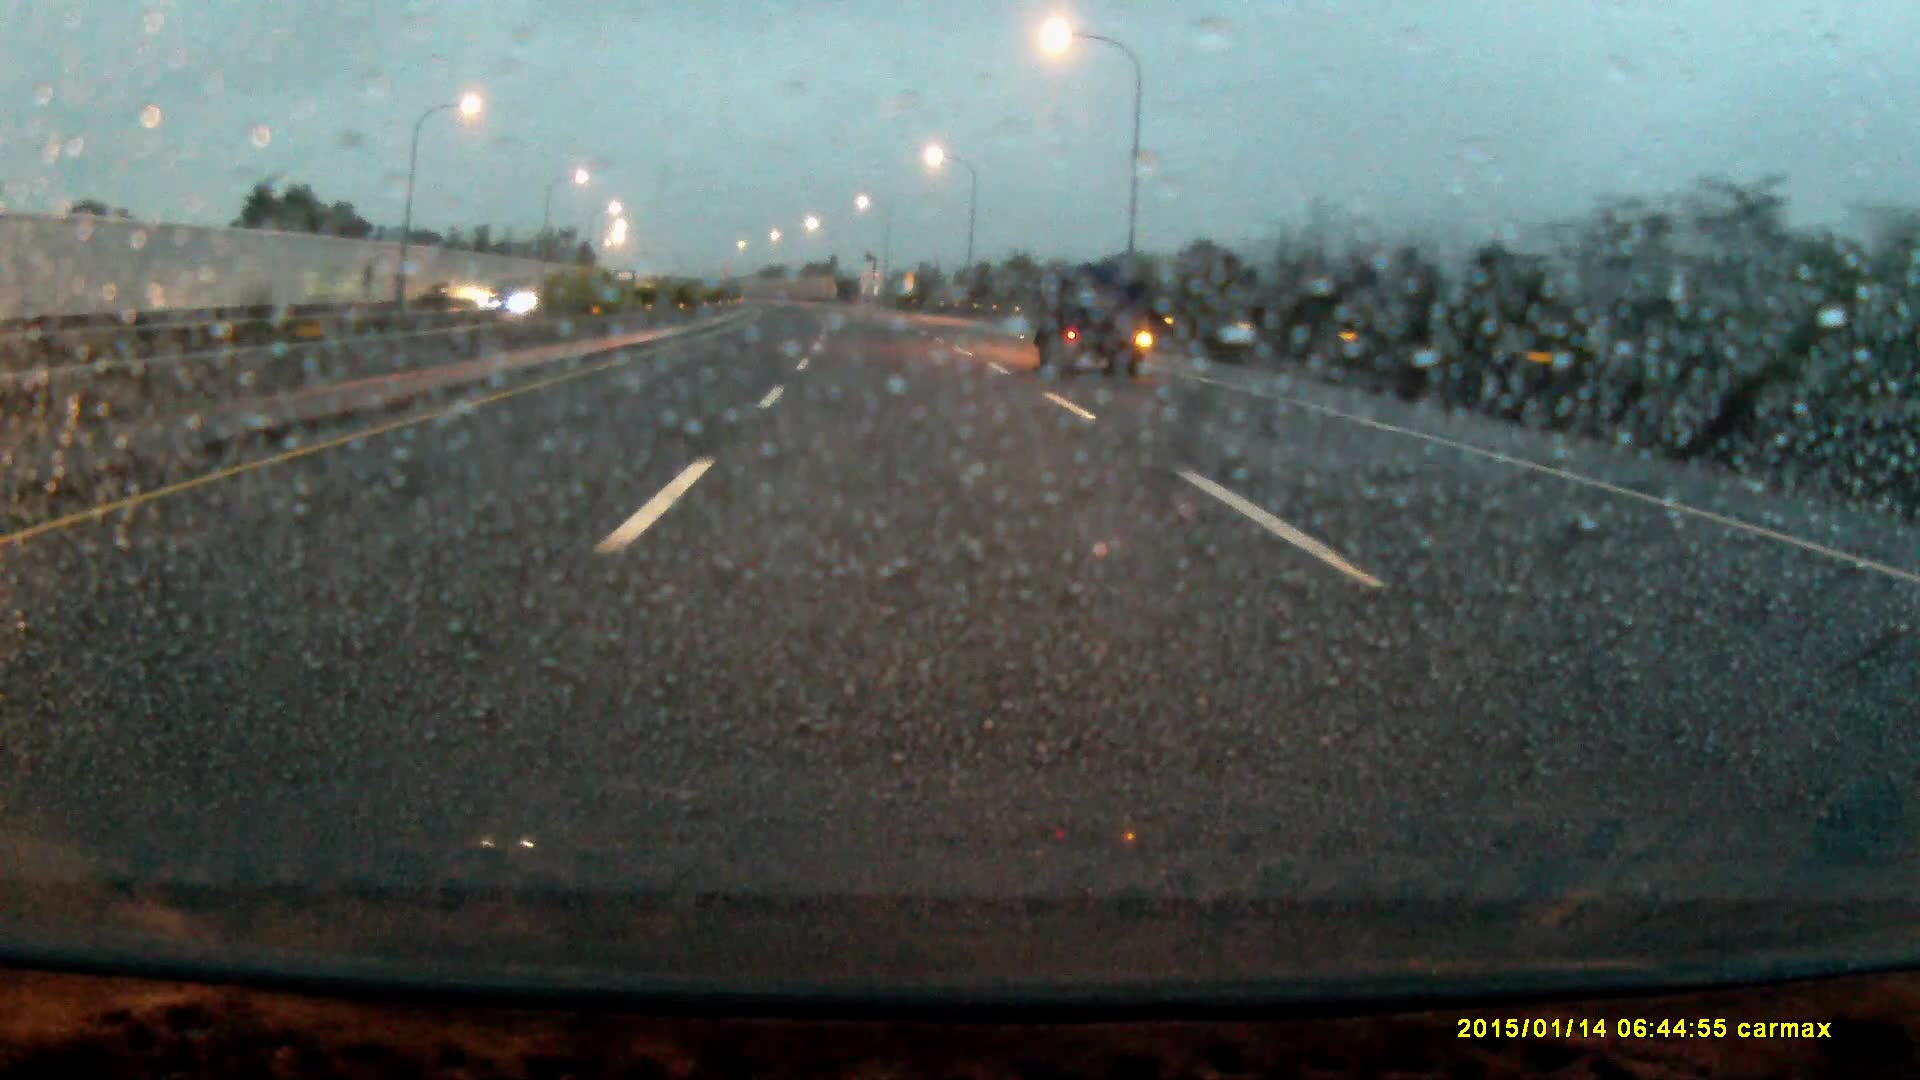vehicle: (1039, 272, 1149, 378), (475, 280, 547, 320)
